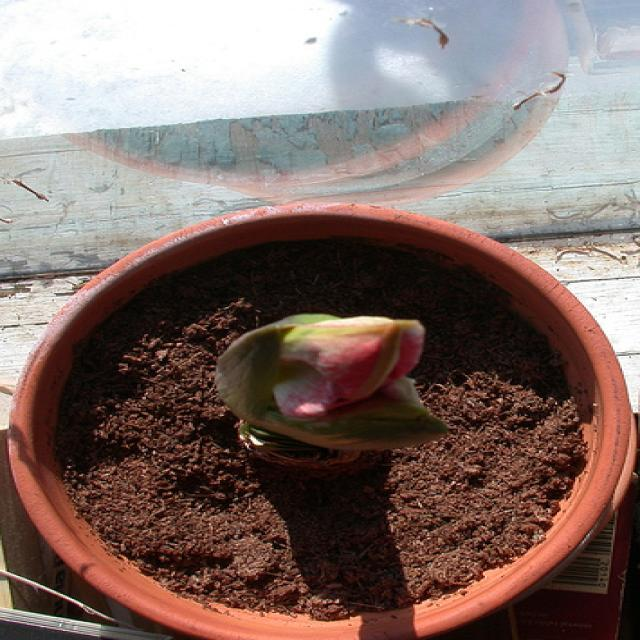pottedplant: (3, 202, 634, 640)
